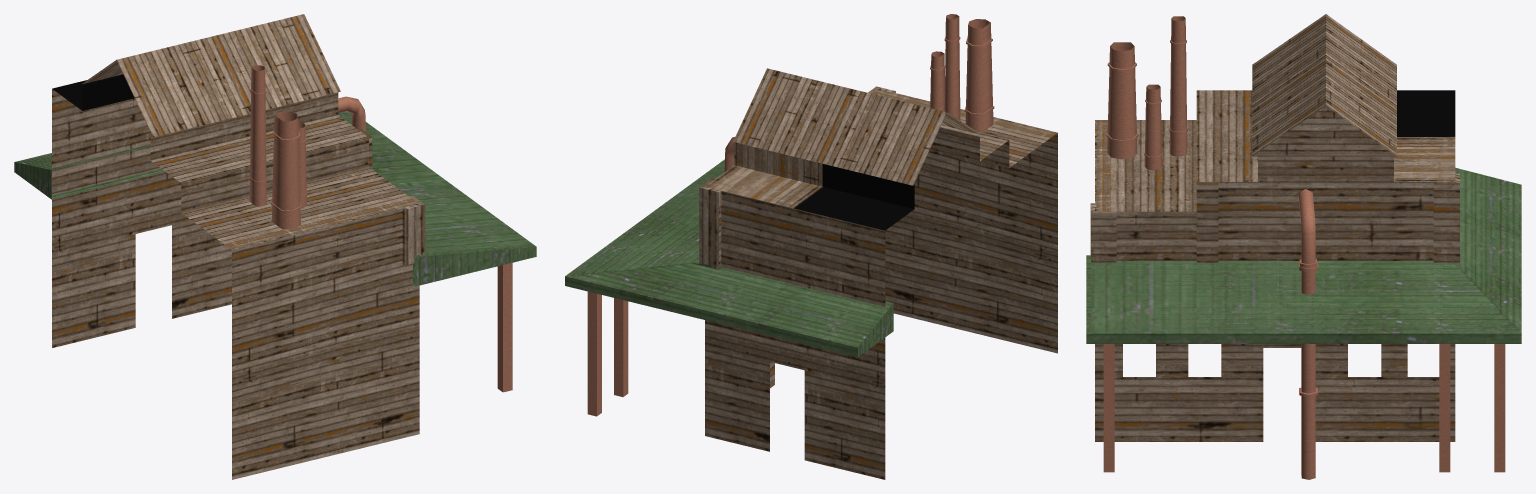
The model's file is generalStore_StickON.fbx.
3 renders of one model, left to right at view 1: azimuth 30°, elevation 25°; view 2: azimuth 150°, elevation 25°; view 3: azimuth 270°, elevation 25°, orthographic. The views are drawn at different scales.
Parts seen in each view (by area): view 1: general_store, polySurface3, generalStore_platformSM1, PipeStacks, generalStore_platformLG, GenStore_Stick_on; view 2: general_store, generalStore_platformLG, polySurface3, PipeStacks, generalStore_platformSM1; view 3: general_store, generalStore_platformLG, generalStore_platformSM1, polySurface3, PipeStacks, GenStore_Stick_on.
Part boxes in pixels (<box>): general_store: <box>52,74,425,479</box>; polySurface3: <box>82,14,340,137</box>; generalStore_platformSM1: <box>338,111,533,392</box>; PipeStacks: <box>249,65,307,229</box>; generalStore_platformLG: <box>14,112,536,286</box>; GenStore_Stick_on: <box>338,96,365,131</box>; general_store: <box>699,86,1057,479</box>; generalStore_platformLG: <box>565,160,893,416</box>; polySurface3: <box>733,68,981,185</box>; PipeStacks: <box>930,14,994,131</box>; generalStore_platformSM1: <box>614,159,724,396</box>; general_store: <box>1090,90,1459,441</box>; generalStore_platformLG: <box>1086,167,1521,472</box>; generalStore_platformSM1: <box>1091,255,1460,472</box>; polySurface3: <box>1252,14,1396,156</box>; PipeStacks: <box>1106,16,1187,170</box>; GenStore_Stick_on: <box>1298,189,1318,479</box>.
Size of the model in its own units: 996 by 1175 by 1229.
